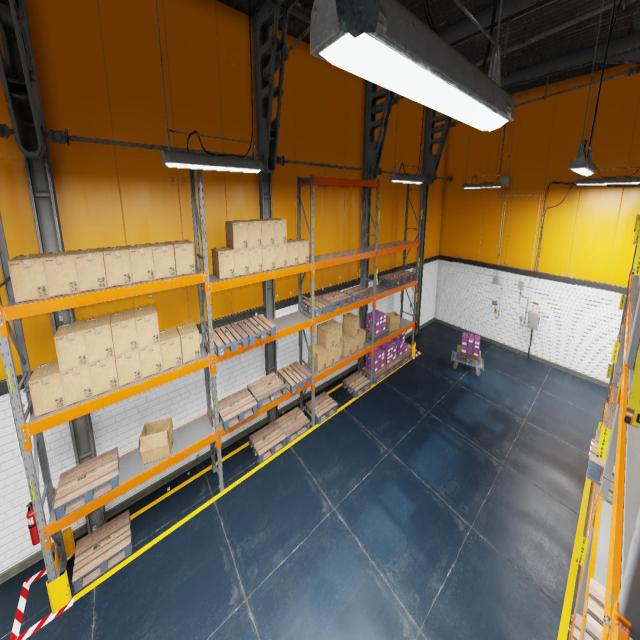box: (7, 252, 49, 303), (28, 360, 65, 417), (54, 320, 88, 372), (43, 250, 79, 297), (139, 417, 173, 464), (84, 314, 114, 364), (74, 248, 107, 292), (60, 364, 93, 406), (111, 310, 138, 356), (103, 245, 132, 287), (89, 355, 118, 396), (134, 304, 160, 348), (128, 244, 155, 282), (176, 322, 201, 363), (115, 349, 142, 386), (150, 242, 176, 279), (160, 327, 182, 370), (170, 240, 195, 276), (139, 343, 163, 378), (212, 247, 235, 279), (225, 220, 248, 250), (241, 219, 262, 248), (253, 219, 275, 246), (266, 218, 287, 244), (308, 343, 326, 372), (290, 238, 309, 264), (317, 322, 334, 349), (325, 319, 342, 345), (342, 312, 359, 337), (234, 248, 249, 276), (342, 331, 359, 354), (248, 247, 263, 273), (262, 245, 275, 271), (287, 239, 298, 266), (275, 244, 287, 268), (321, 346, 334, 367), (386, 312, 400, 331), (342, 332, 352, 357), (334, 342, 342, 363), (359, 327, 365, 350)
pallets: (72, 510, 132, 593), (53, 447, 119, 520), (586, 429, 616, 493), (218, 387, 257, 431), (249, 421, 286, 463), (247, 372, 286, 409), (207, 322, 248, 357), (582, 578, 605, 639), (275, 406, 310, 444), (237, 314, 276, 345), (277, 361, 312, 394), (306, 392, 338, 424), (342, 371, 371, 398), (302, 295, 334, 318), (319, 290, 352, 310), (456, 345, 481, 366), (362, 366, 388, 384), (343, 286, 370, 302), (603, 402, 616, 434), (378, 274, 404, 288), (363, 328, 388, 342), (391, 270, 416, 282), (384, 357, 401, 374), (571, 614, 582, 640), (396, 350, 412, 365), (617, 335, 623, 360), (618, 324, 624, 342)
